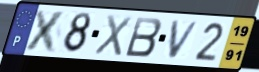2: (194, 21, 227, 63)
8: (60, 11, 92, 55)
B: (123, 15, 164, 58)
V: (167, 20, 202, 61)
X: (22, 8, 69, 55), (91, 13, 134, 58)
